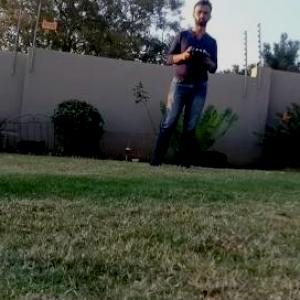follow: (141, 0, 222, 173)
